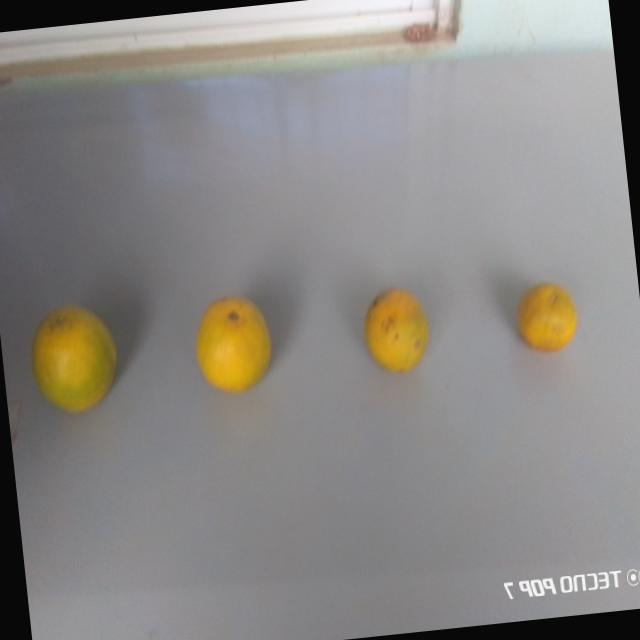Ripe orange: (22, 294, 136, 429), (186, 284, 288, 414), (354, 280, 438, 381), (501, 270, 584, 367)
